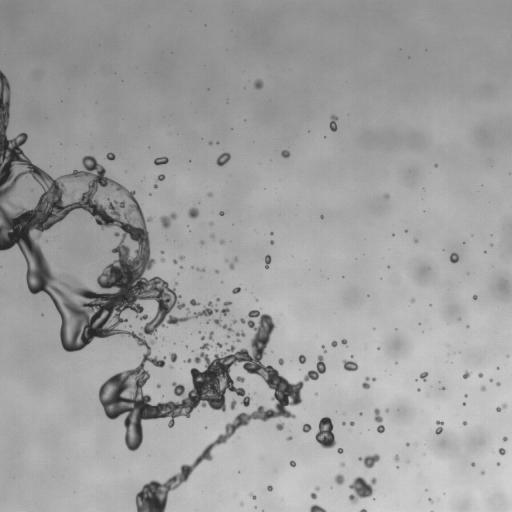droplet: (348, 476, 376, 503), (315, 417, 336, 448), (358, 453, 380, 468), (160, 212, 177, 228), (342, 355, 358, 371), (216, 152, 230, 166), (154, 156, 168, 165), (188, 207, 199, 218), (253, 79, 263, 89), (334, 474, 344, 484), (362, 377, 370, 389), (450, 253, 459, 263), (496, 403, 506, 412), (419, 372, 428, 381), (302, 423, 311, 432), (169, 352, 177, 362), (281, 150, 290, 158), (106, 152, 115, 160), (298, 355, 306, 363), (276, 422, 284, 430), (157, 174, 165, 181), (463, 371, 471, 378), (190, 299, 199, 305), (208, 331, 213, 341), (215, 342, 222, 349), (498, 448, 505, 455), (310, 492, 317, 499), (232, 287, 240, 293), (236, 376, 244, 382), (331, 340, 337, 347), (341, 339, 347, 345), (289, 460, 295, 466), (267, 485, 273, 491), (250, 493, 256, 499), (278, 358, 283, 365), (337, 448, 343, 453), (394, 455, 399, 461), (480, 386, 485, 391), (502, 436, 507, 441), (207, 192, 212, 196), (219, 211, 224, 215), (179, 255, 184, 259), (478, 373, 483, 377), (349, 421, 354, 425), (462, 421, 467, 425), (287, 436, 292, 440), (429, 498, 433, 503), (385, 194, 389, 198), (160, 258, 164, 262), (173, 259, 177, 263), (473, 295, 477, 299), (496, 382, 500, 386), (156, 384, 160, 388), (340, 462, 344, 466), (471, 462, 475, 466), (315, 486, 319, 490), (208, 141, 212, 144), (153, 184, 157, 187), (210, 234, 213, 238), (414, 239, 418, 242), (220, 240, 223, 244), (270, 240, 273, 244), (215, 269, 218, 273), (201, 336, 204, 340), (320, 215, 323, 218), (200, 241, 203, 244), (216, 298, 219, 301), (372, 377, 375, 380), (489, 378, 492, 381), (342, 422, 345, 425), (481, 471, 484, 474), (240, 502, 243, 505), (434, 164, 437, 166), (210, 222, 212, 225), (161, 250, 163, 253), (411, 299, 414, 301), (170, 365, 172, 368), (441, 387, 444, 389), (385, 409, 388, 411), (359, 412, 361, 415), (406, 443, 409, 445), (497, 462, 499, 465), (175, 282, 177, 284), (255, 298, 257, 300), (207, 320, 209, 322), (377, 347, 379, 349), (464, 394, 466, 396), (463, 403, 465, 405)
ligament: (0, 70, 323, 511), (374, 408, 384, 433), (329, 115, 338, 131), (309, 504, 326, 511), (435, 420, 443, 434), (229, 257, 237, 269), (265, 255, 271, 268), (322, 345, 326, 352), (196, 268, 204, 271), (360, 509, 366, 511)
